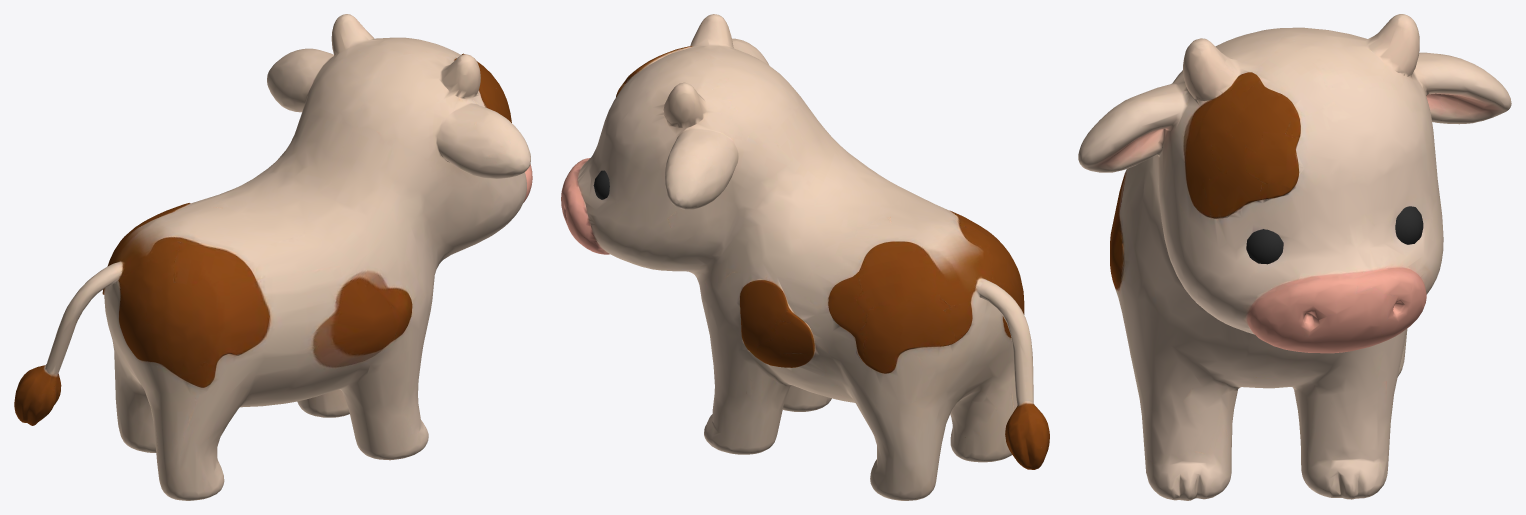
Rendered from meshy_cow.glb.
3 renders of one model, left to right at view 1: azimuth 30°, elevation 25°; view 2: azimuth 150°, elevation 25°; view 3: azimuth 270°, elevation 25°, orthographic. The views are drawn at different scales.
Visible parts, largest first — view 1: body; view 2: body; view 3: body, eye.
Boxes of the visible parts, <box> form: body: <box>14,14,532,500</box>; body: <box>561,14,1049,500</box>; body: <box>1078,14,1511,500</box>; eye: <box>1246,206,1423,264</box>.
Bounding box in the file's own units: 2.7 × 1.96 × 1.54.
2 materials, 1 textured.
